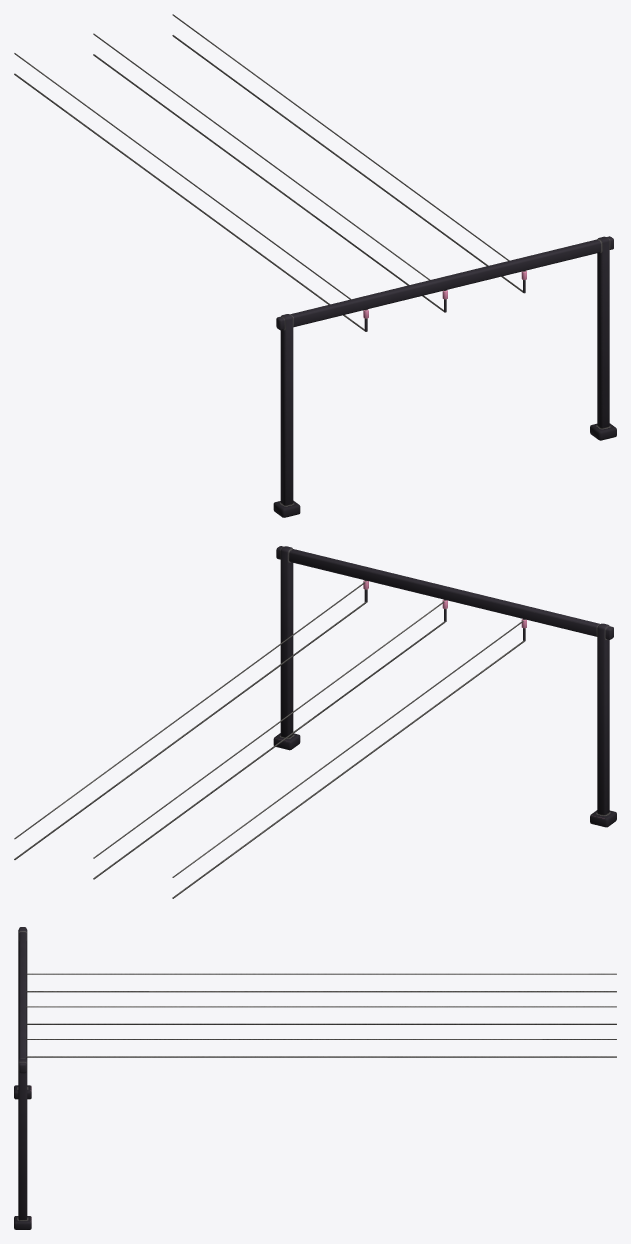
Rendered from rc_catenary_frame.glb.
3 renders of one model, top to bottom at view 1: azimuth 30°, elevation 25°; view 2: azimuth 150°, elevation 25°; view 3: azimuth 270°, elevation 25°, orthographic. The views are drawn at different scales.
Visible parts, largest first — view 1: rc_catenary_frame; view 2: rc_catenary_frame; view 3: rc_catenary_frame.
Boxes of the visible parts, x1,y1,x2,y2 form: rc_catenary_frame: (14,14,616,517); rc_catenary_frame: (14,546,616,898); rc_catenary_frame: (14,927,616,1229).
Size of the model in its own units: 11 by 6.2 by 20.3.
Materials: 3 (3 with a texture image).
